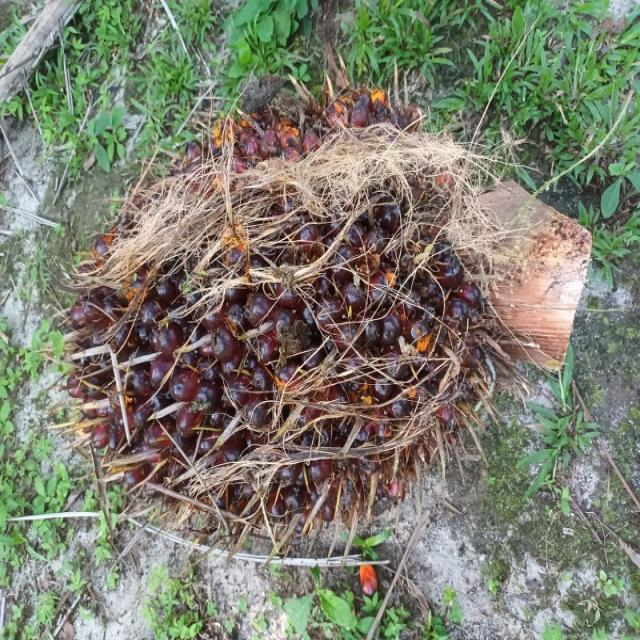fraksi 1: (63, 69, 578, 573)
